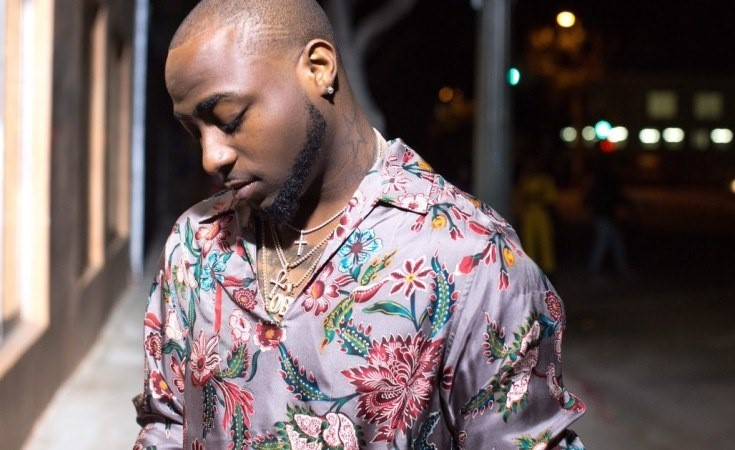face_no_mask: (164, 1, 341, 228)
